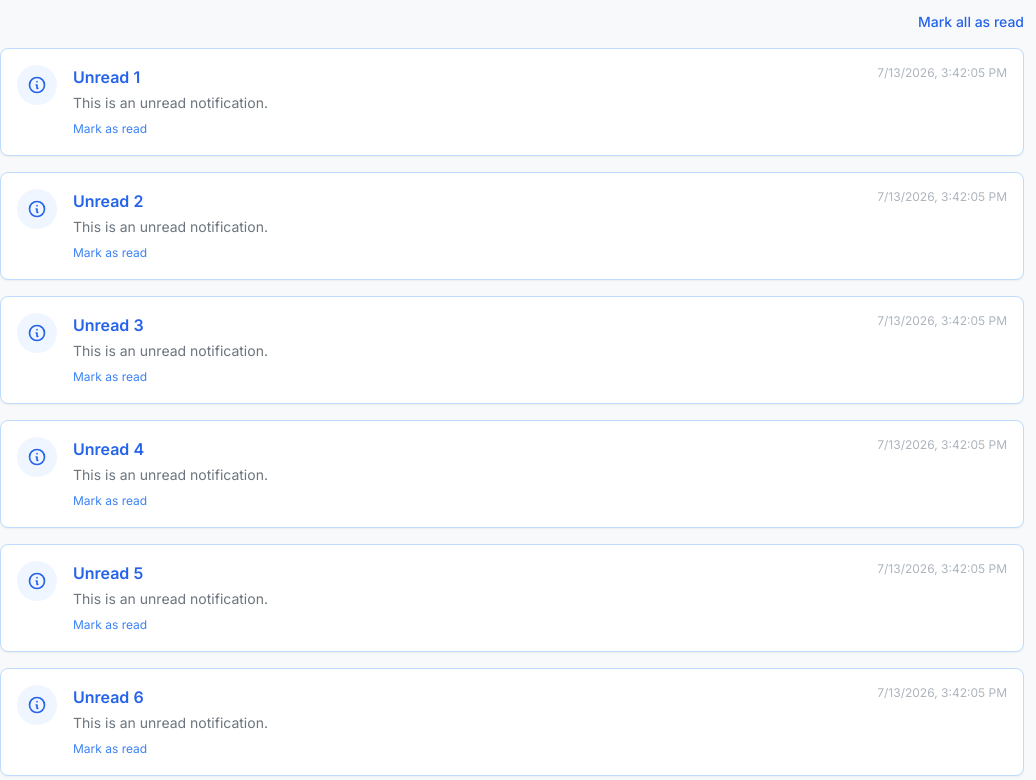
Scenario: NotificationList › marks a notification as read and removes it from unread section
The image size is (1036, 780).
Click the button "Mark as read" below "Unread 1". click: {"x": 110, "y": 129}
box: [73,121,147,137]
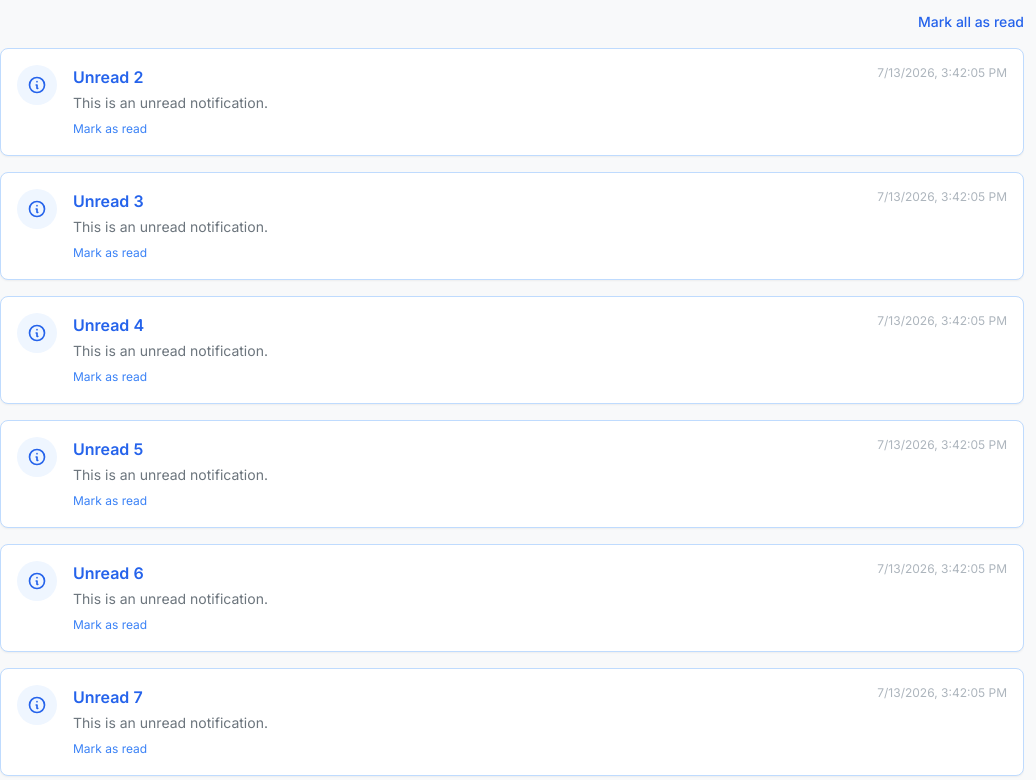
Result: the heading "Unread 1" is gone
